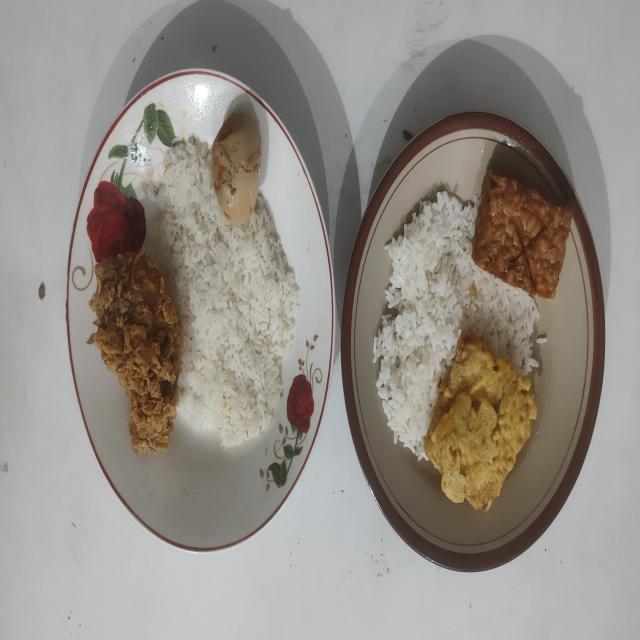nasi_putih: (373, 190, 539, 460), (158, 136, 300, 446)
tempe_goreng: (472, 170, 571, 298)
